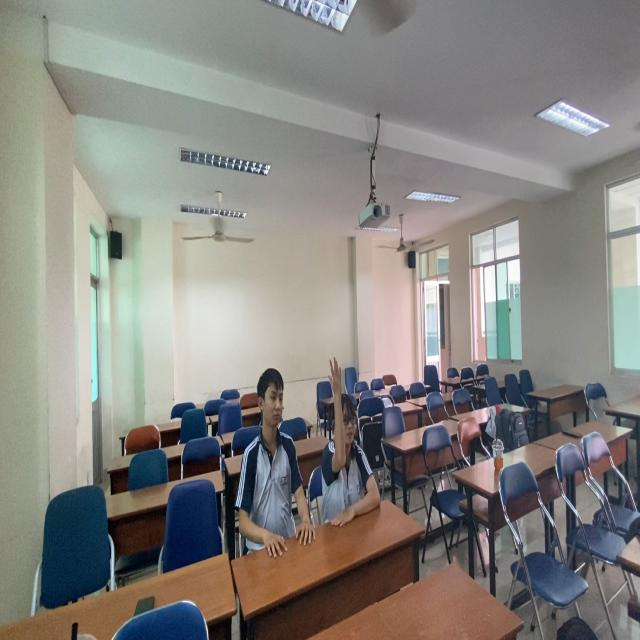raise_hand: (315, 352, 383, 514)
